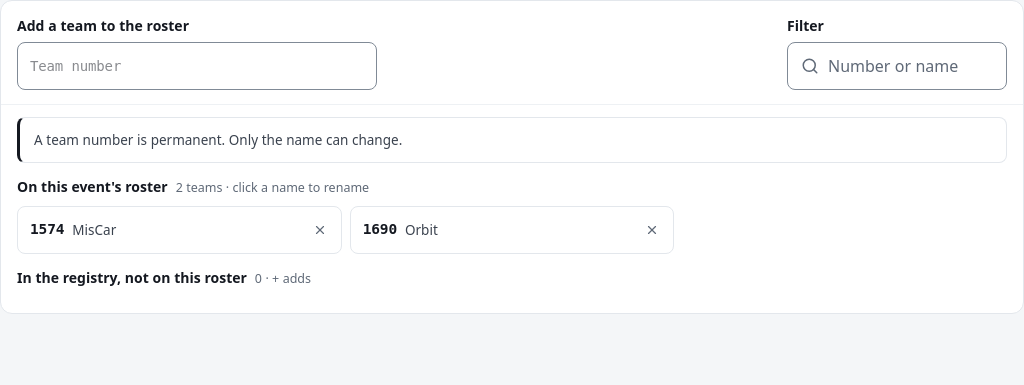
RosterPanel › × takes a team off, and puts it back when the server refuses
The image size is (1024, 385).
Click the button named "Remove 1574 MisCar from the roster" at (320, 230), box [305, 215, 335, 245]
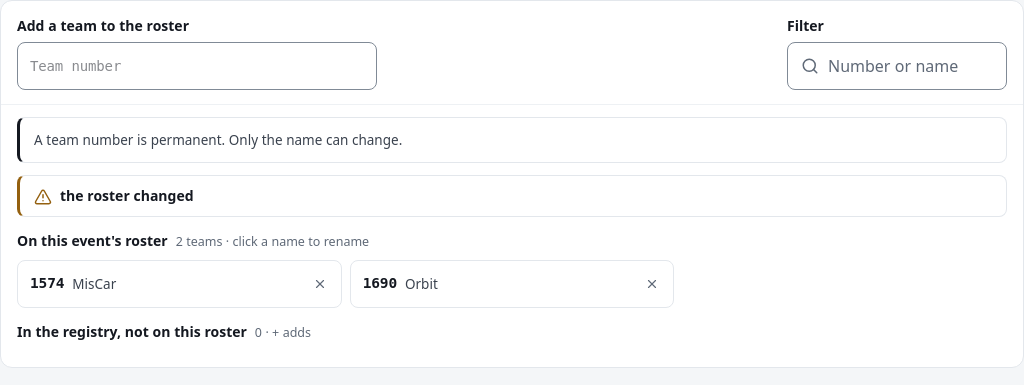
Expected: the number of list items is 2, [17, 260, 342, 308]; [350, 260, 674, 308]
Result: the message reads "the roster changed" at [60, 186, 194, 205]
